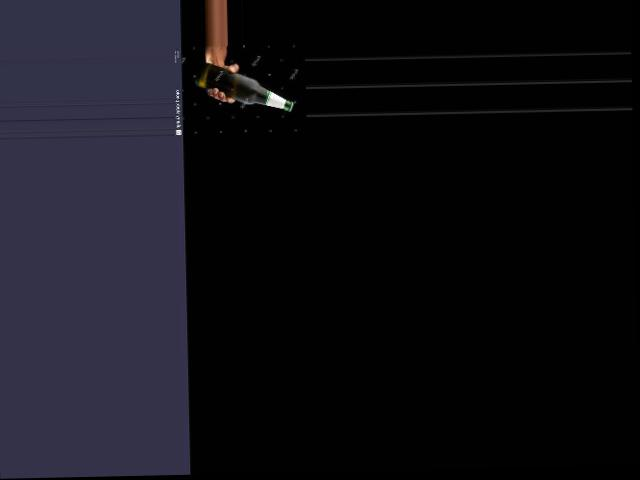beer: (194, 60, 294, 113)
